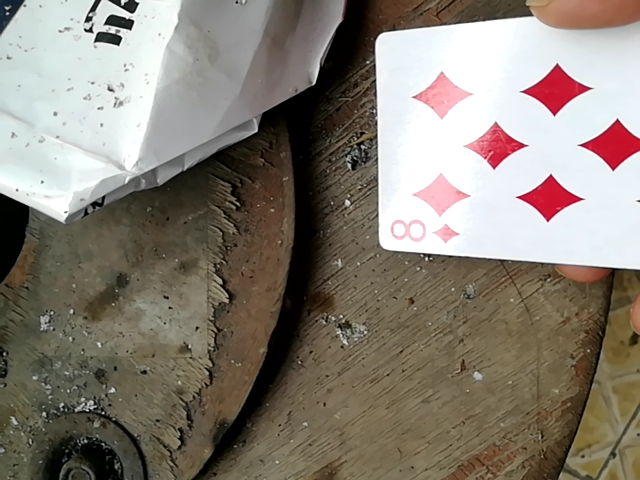fk 8: (372, 6, 640, 278)
